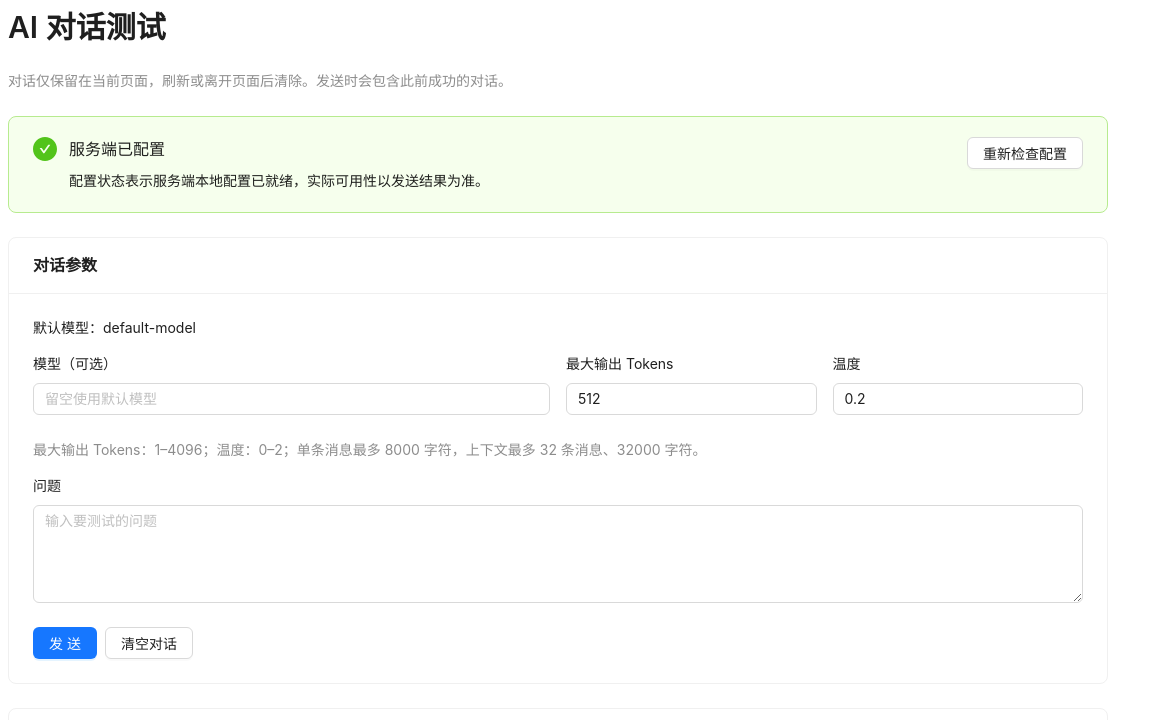
Test case: AI dialogue at the HTTP boundary › sends successful turns as history and includes optional parameters
Expected: the text "服务端已配置" is shown, [69, 139, 165, 159]
Type "第一问" into the text box labelled "问题".
click(558, 554); type("第一问")  # box [33, 505, 1083, 603]
Click the button named "发送".
click(65, 643)  # box [33, 627, 97, 659]
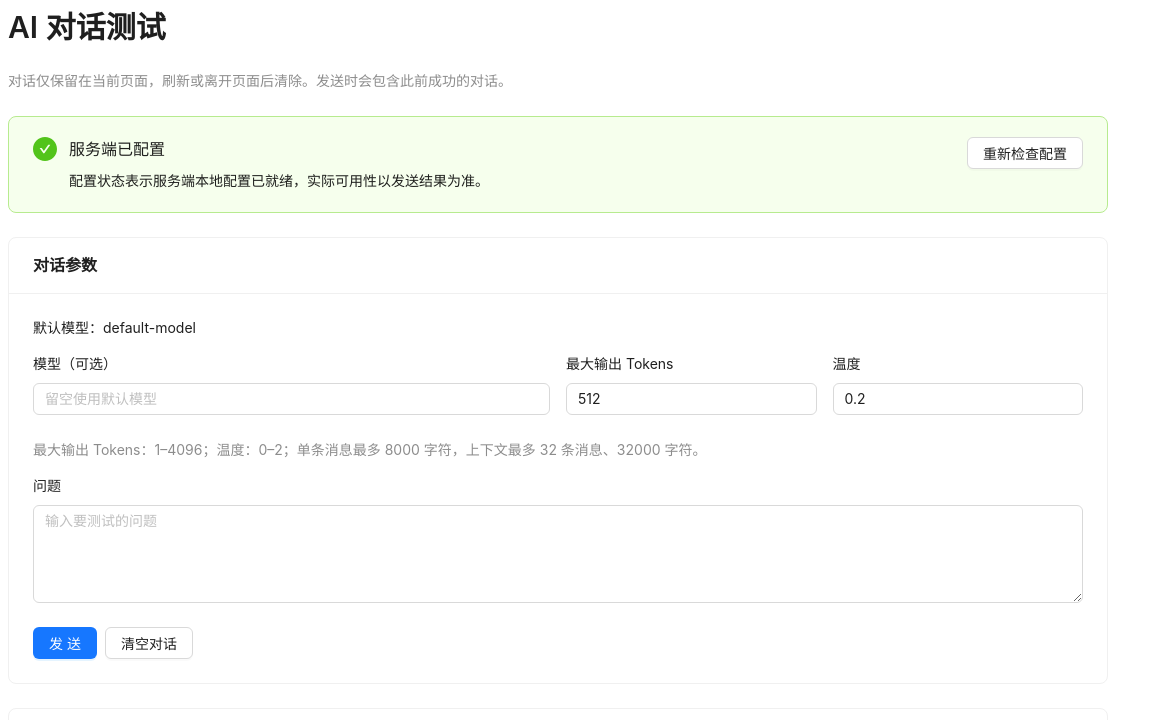
Type "custom-model" into the field labelled "模型（可选）".
click(292, 399); type("custom-model")  # box [33, 383, 550, 415]
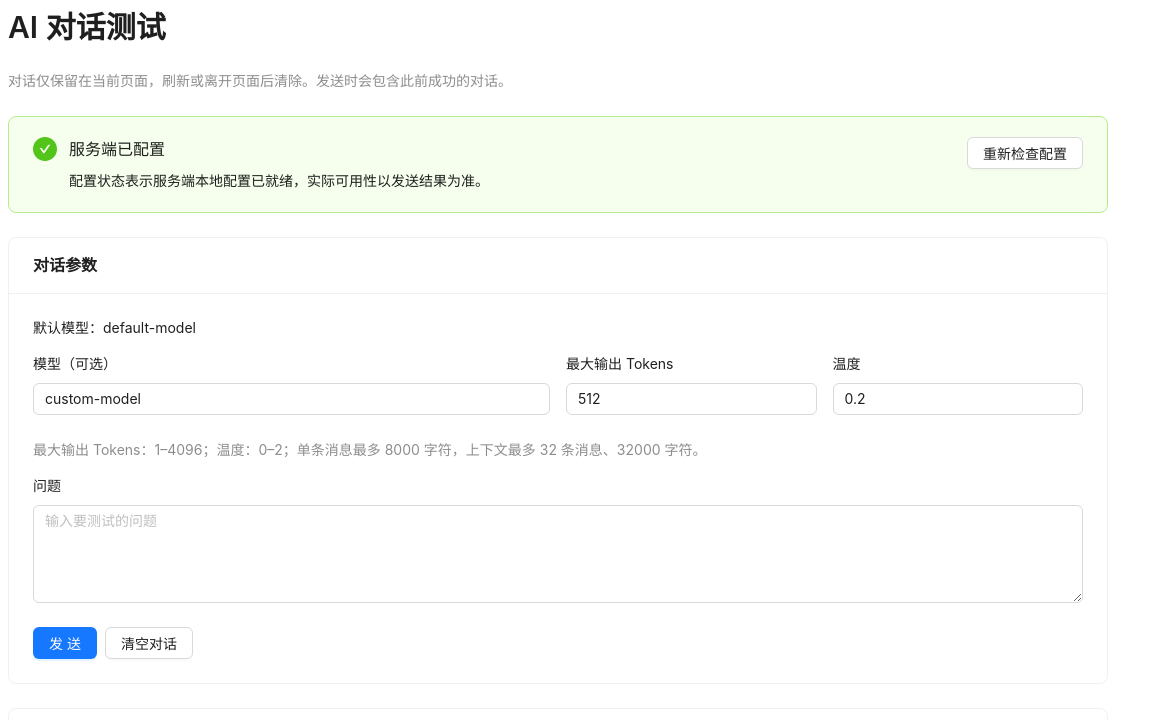
Replace the text in the number field labelled "最大输出 Tokens" with "256" at (691, 399), box [567, 384, 816, 414]
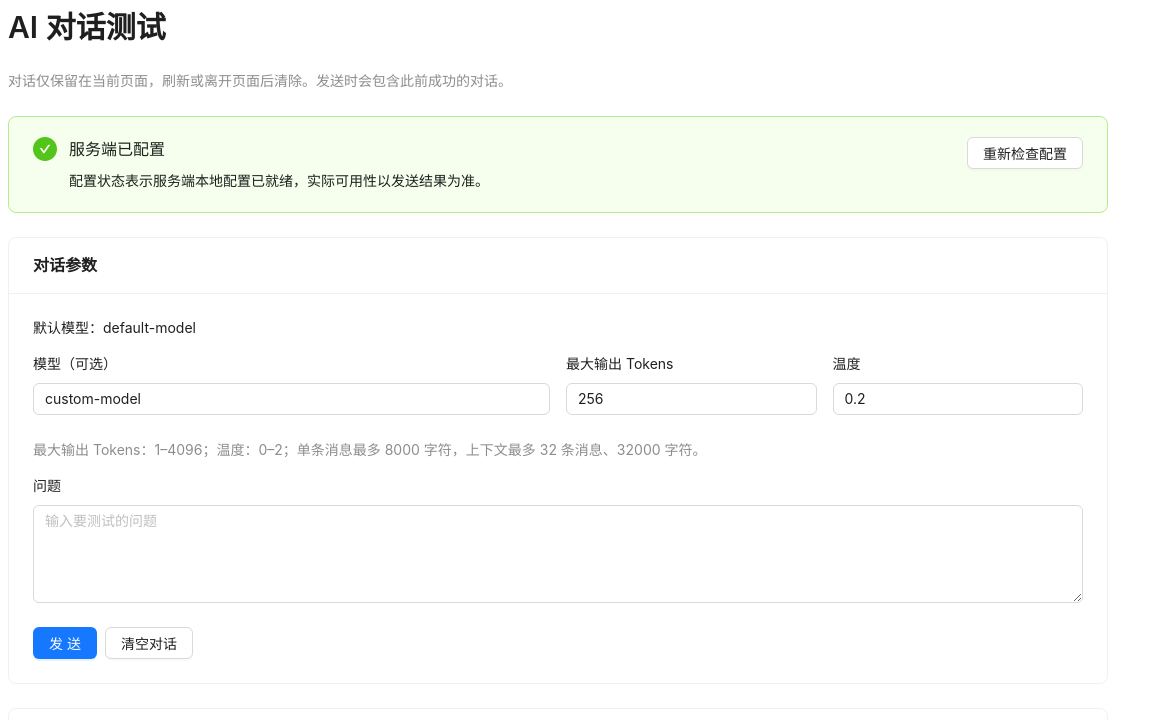
Replace the text in the number field labelled "温度" with "0.5" at (958, 399), box [834, 384, 1082, 414]
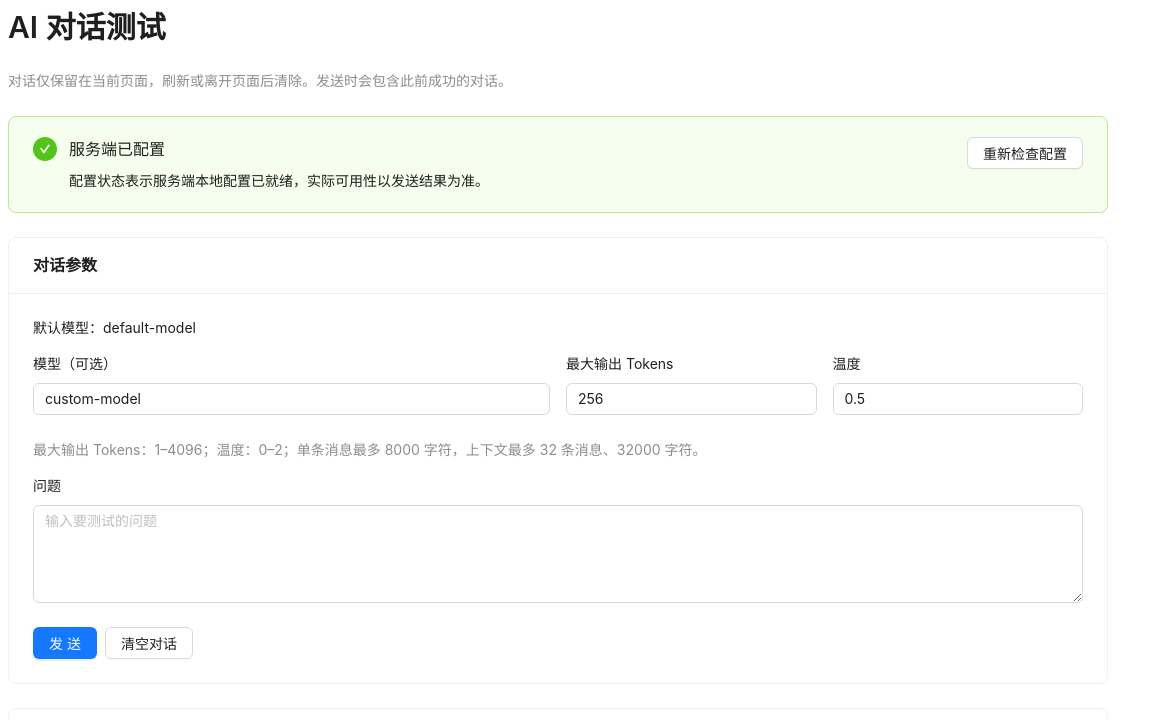
Type "第二问" into the text box labelled "问题".
click(558, 554); type("第二问")  # box [33, 505, 1083, 603]
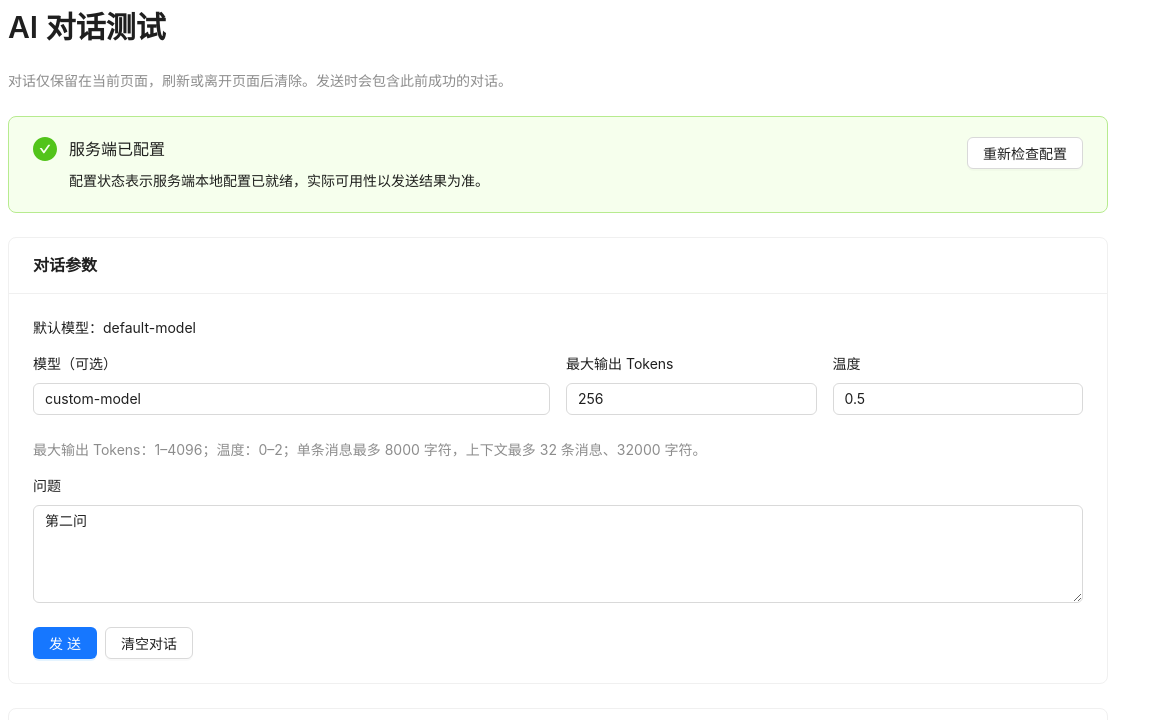
Click the button named "发送".
click(65, 643)  # box [33, 627, 97, 659]
(page scrolled)
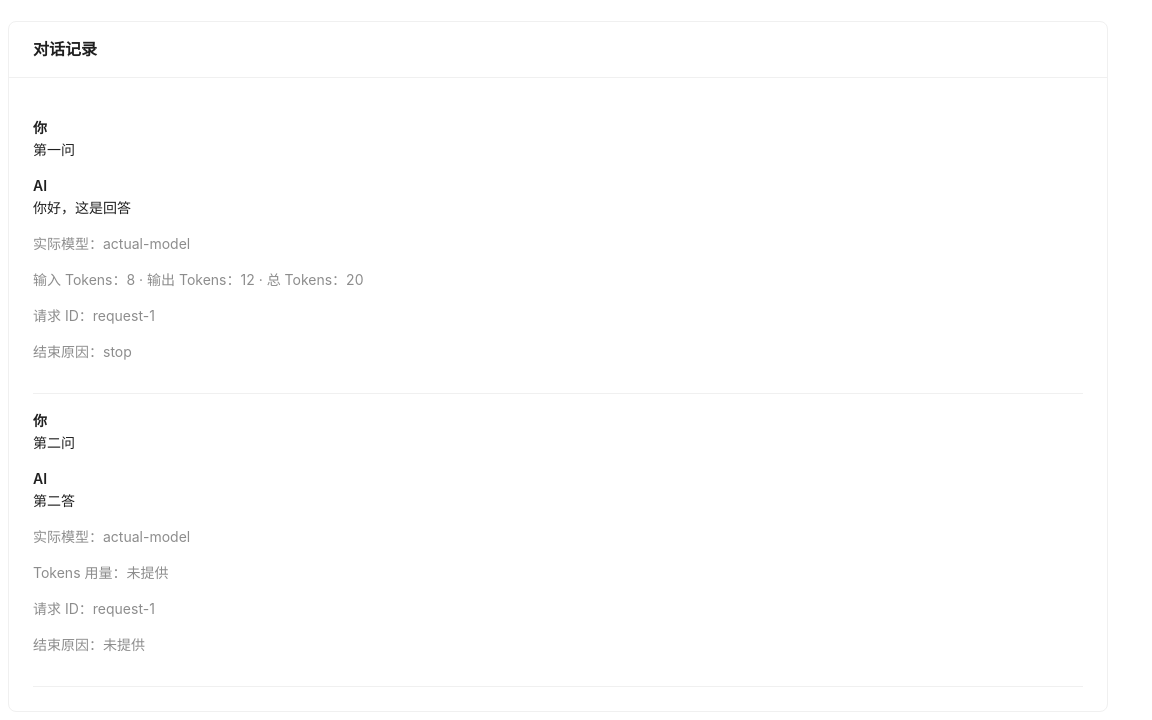
Now the text "第二答" is shown, box [33, 492, 75, 509]
Now the text "Tokens 用量：未提供" is shown, box [33, 564, 168, 581]
